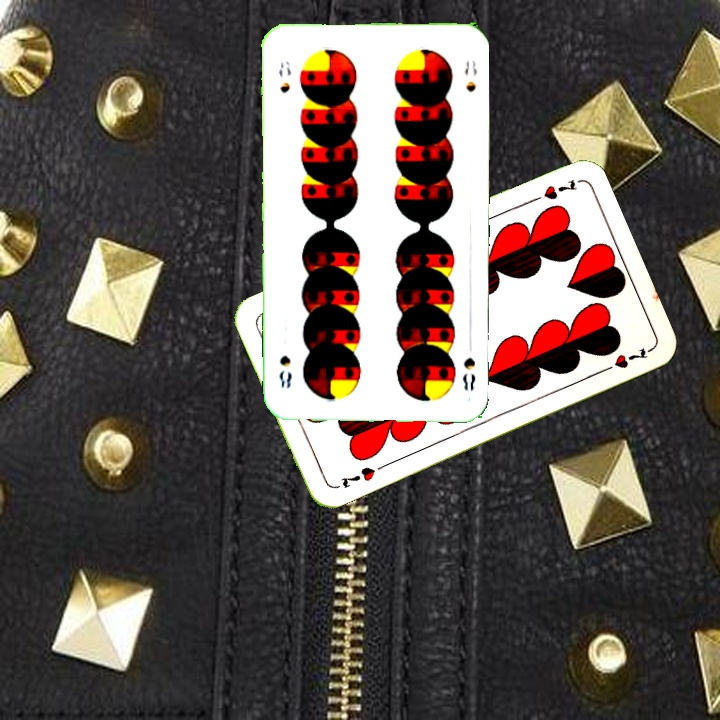H7: (524, 175, 579, 207), (336, 462, 378, 490)
S8: (458, 353, 478, 393), (275, 57, 294, 95)
